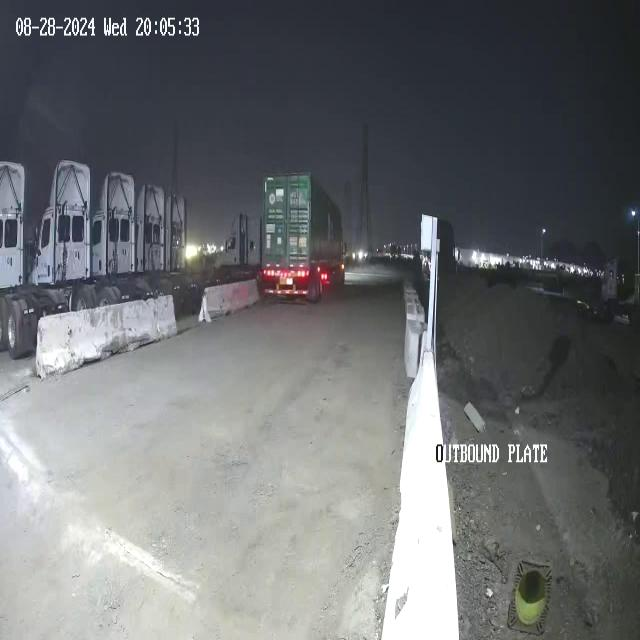CONTAINER: (257, 170, 342, 283)
